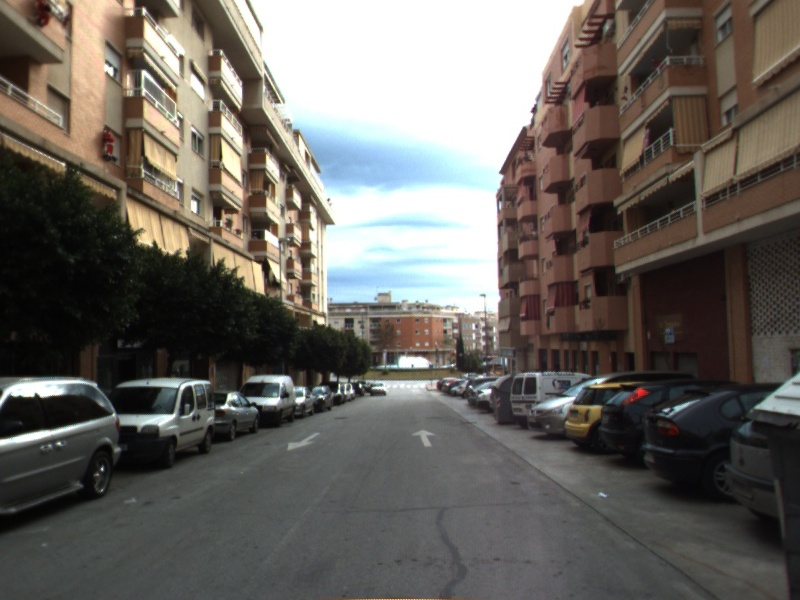STRAIGHT: (409, 427, 438, 449)
